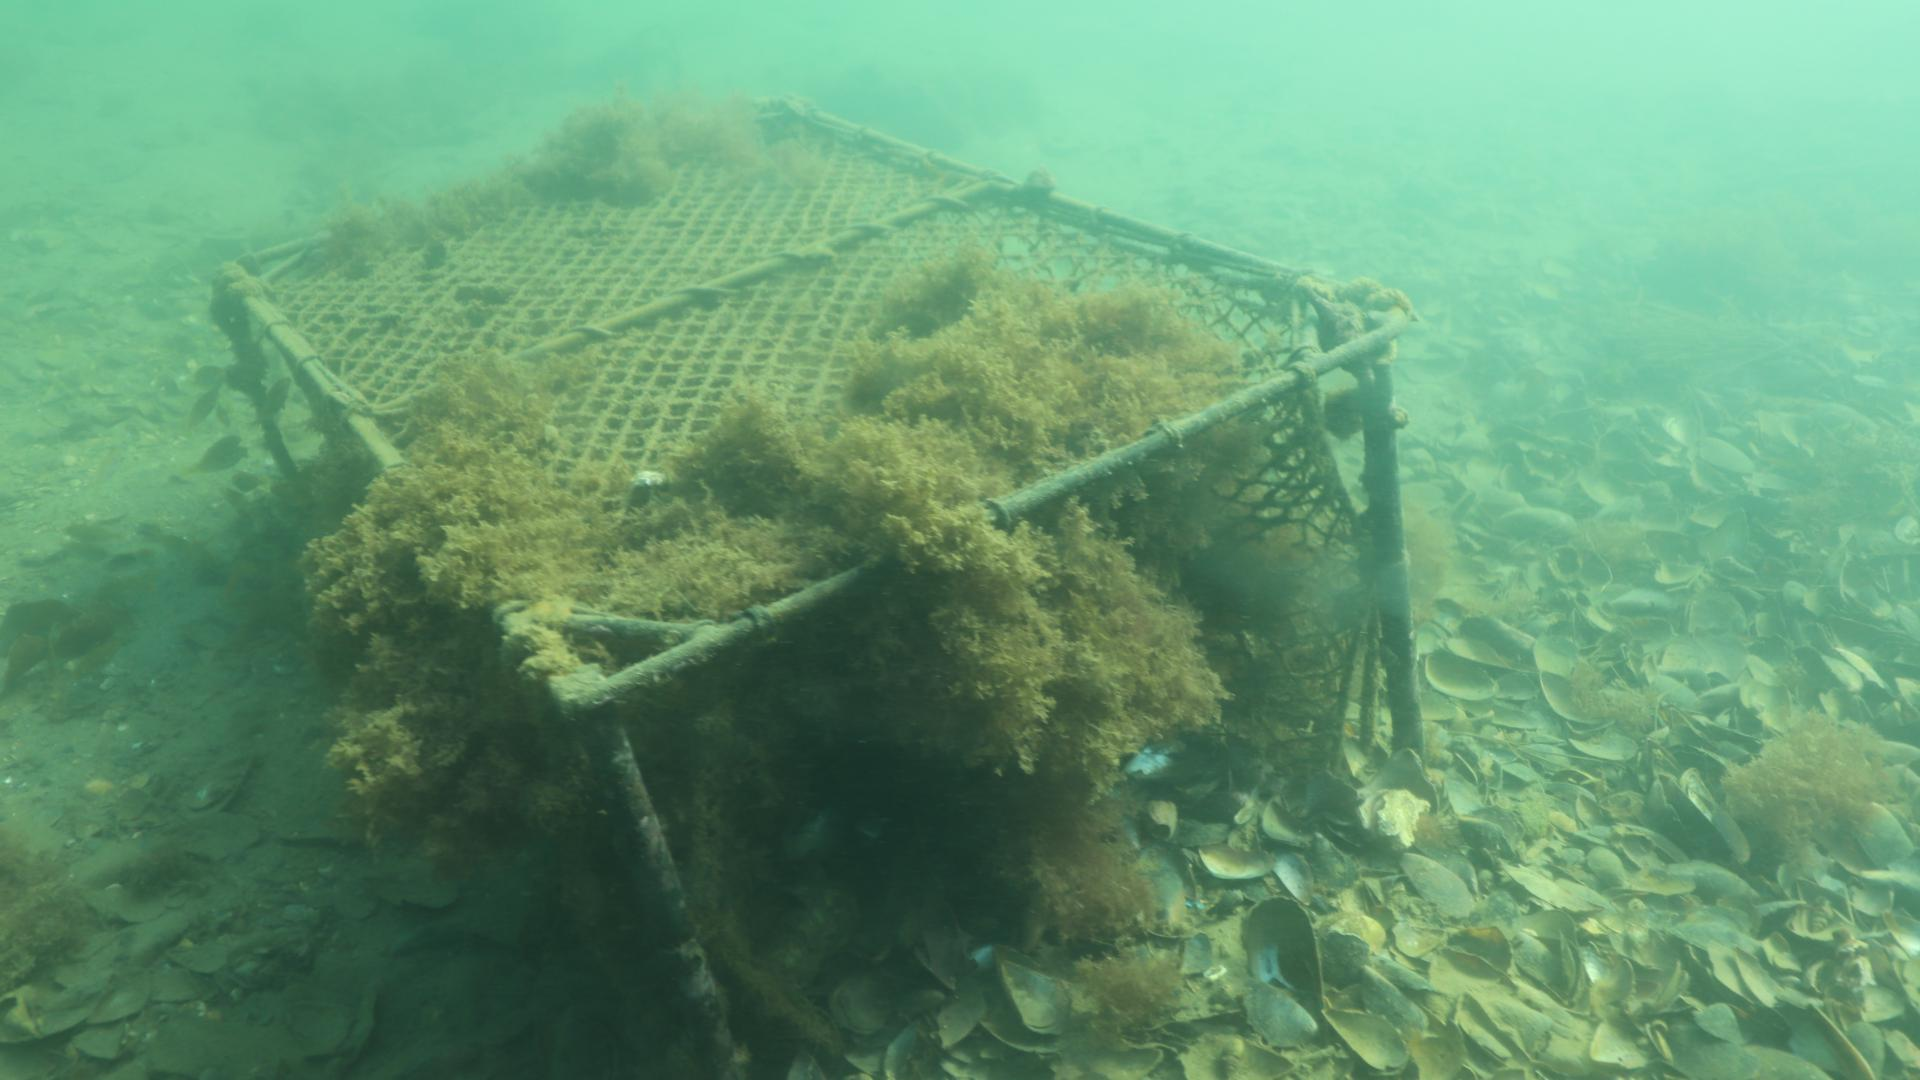rectangular fish trap: (214, 96, 1429, 1069)
